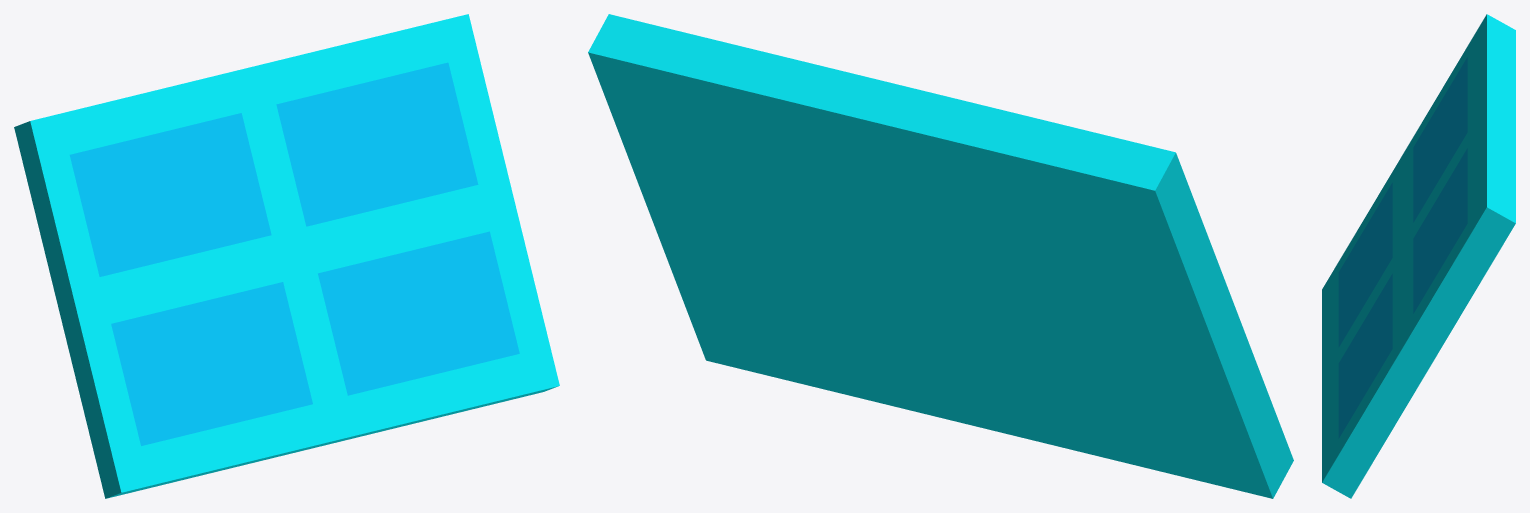
File: Building_014_f.fbx
3 renders of one model, left to right at view 1: azimuth 30°, elevation 25°; view 2: azimuth 150°, elevation 25°; view 3: azimuth 270°, elevation 25°, orthographic. The views are drawn at different scales.
Parts seen in each view (by area): view 1: Building_014_f; view 2: Building_014_f; view 3: Building_014_f.
Boxes of the visible parts, x1=… form: Building_014_f: x1=14, y1=14, x2=559, y2=498; Building_014_f: x1=588, y1=14, x2=1293, y2=498; Building_014_f: x1=1322, y1=14, x2=1515, y2=498.
Size of the model in its own units: 3.3 by 2.32 by 1.4.
